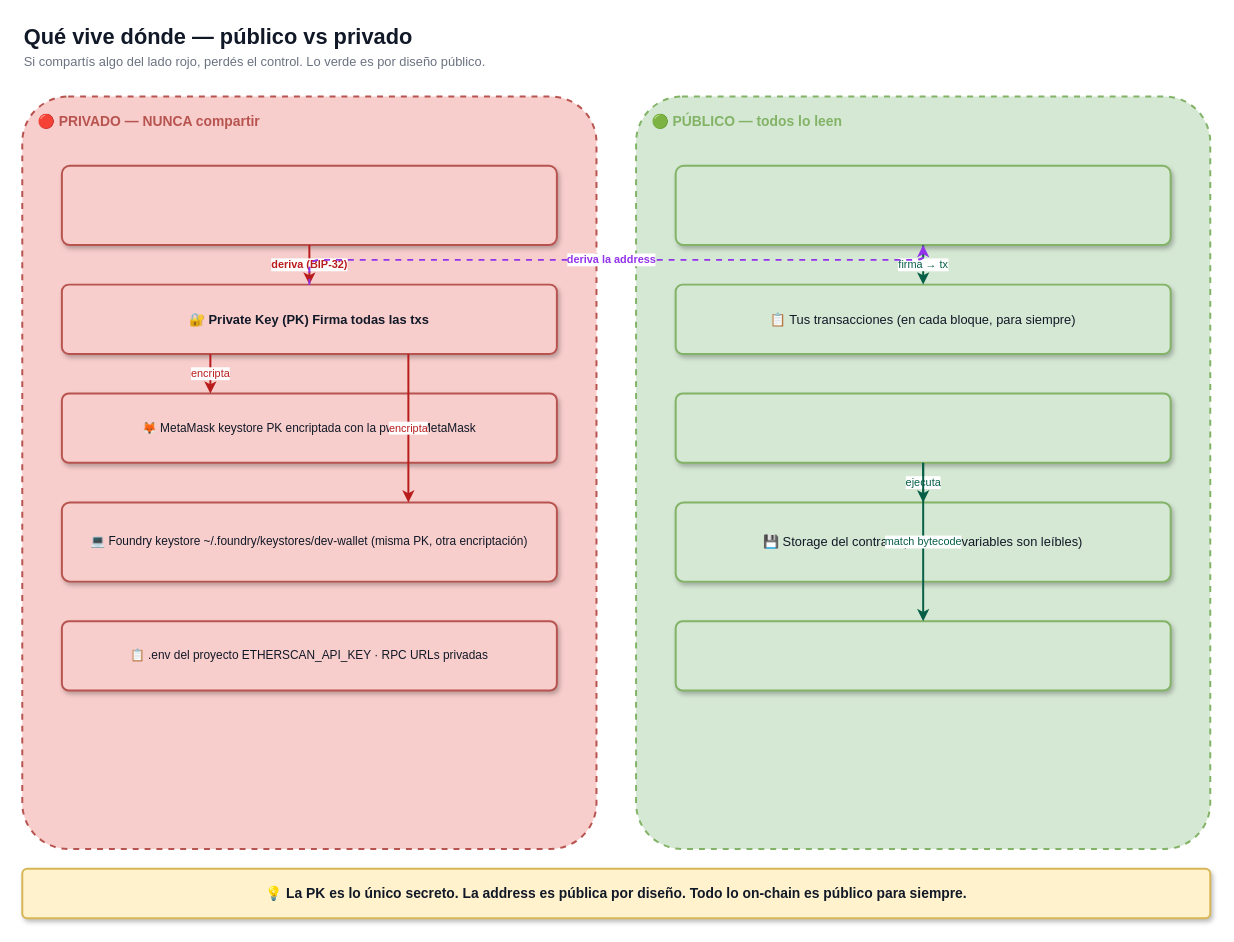
Some shapes in this 1234 by 942 pixel diagram are drawn without their labels. Each missing label, with the centre of its shape:
"💻 Bytecode @ contract address (qué hace el contrato, en hex)" belongs at (x=923, y=429).
"📄 Source verificado en Etherscan (.sol legible si lo subiste)" belongs at (x=923, y=657).
"📬 Tu address (EOA) 0xe8FEF…27f26 · ~42 chars hex" belongs at (x=923, y=206).
"🔑 Frase de 12 palabras (BIP-39) Genera la PK. La raíz de todo." belongs at (x=309, y=206).
